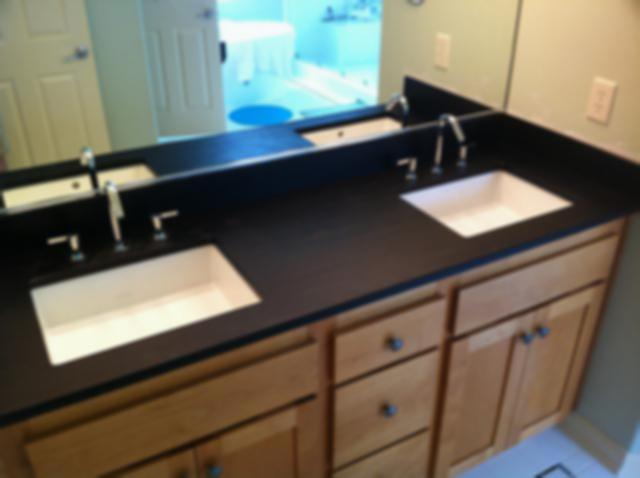Lavamanos: (14, 179, 270, 374), (386, 112, 576, 238)
